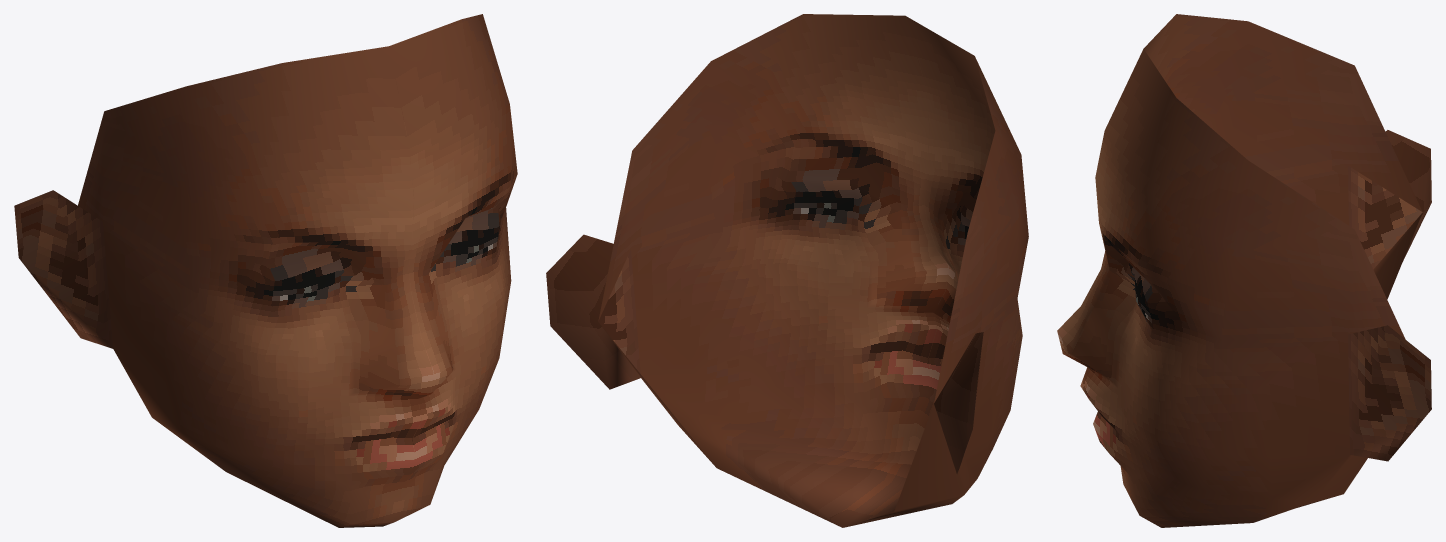
3 views of the same model, side by side, from view 1: azimuth 30°, elevation 25°; view 2: azimuth 150°, elevation 25°; view 3: azimuth 270°, elevation 25° (orthographic). The views are drawn at different scales.
Size of the model in its own units: 19.4 by 20.02 by 14.55.
Materials: 1 (1 with a texture image).
